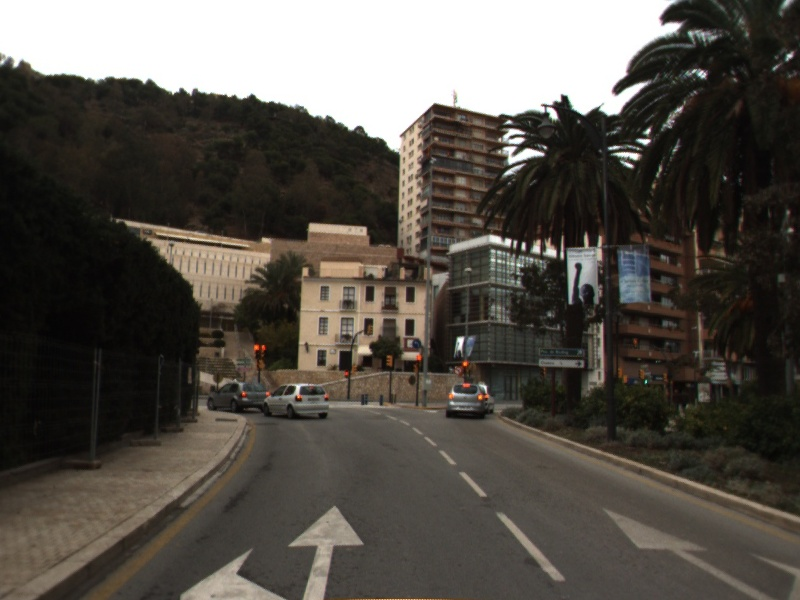STRAIGHT_LEFT: (178, 503, 365, 600)
STRAIGHT_RIGHT: (600, 505, 800, 600)
